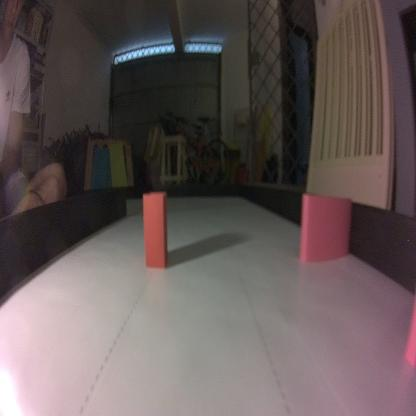magenta: (295, 191, 353, 268)
red: (141, 188, 168, 272)
